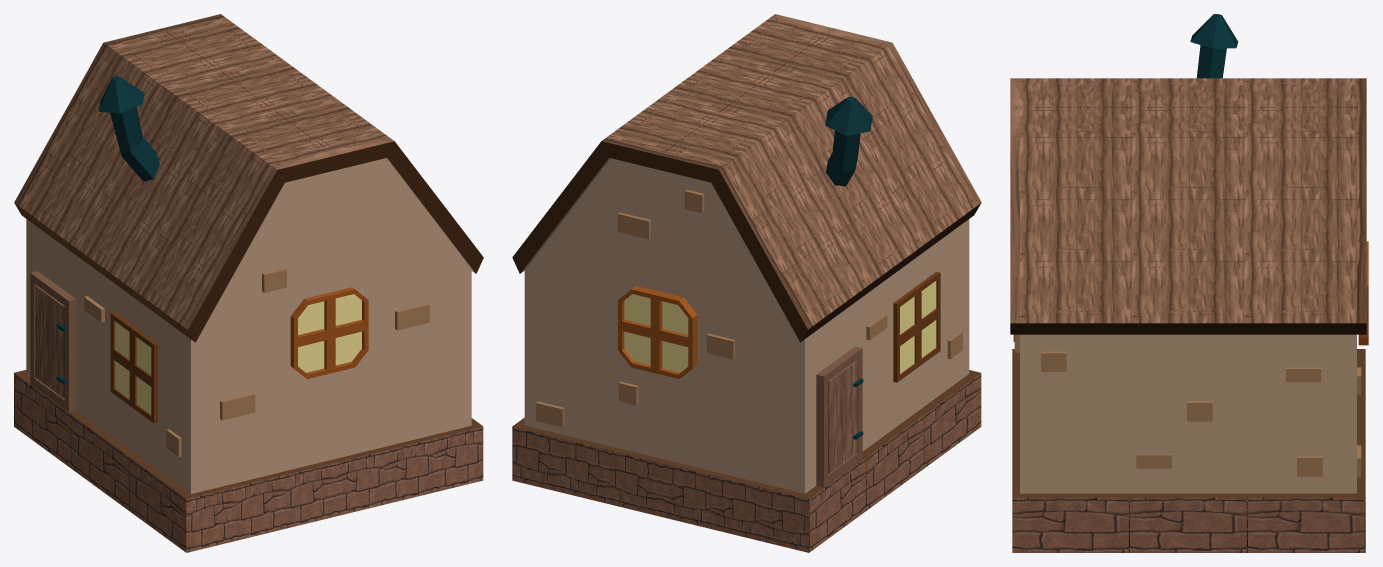
The model's file is House.fbx.
3 renders of one model, left to right at view 1: azimuth 30°, elevation 25°; view 2: azimuth 150°, elevation 25°; view 3: azimuth 270°, elevation 25°, orthographic. The views are drawn at different scales.
Parts seen in each view (by area): view 1: House; view 2: House; view 3: House.
Part boxes in pixels (x1,y1,x2,y2): House: (14, 14, 483, 552); House: (512, 14, 981, 552); House: (1010, 14, 1368, 552).
Bounding box in the file's own units: 114 × 144 × 116.
